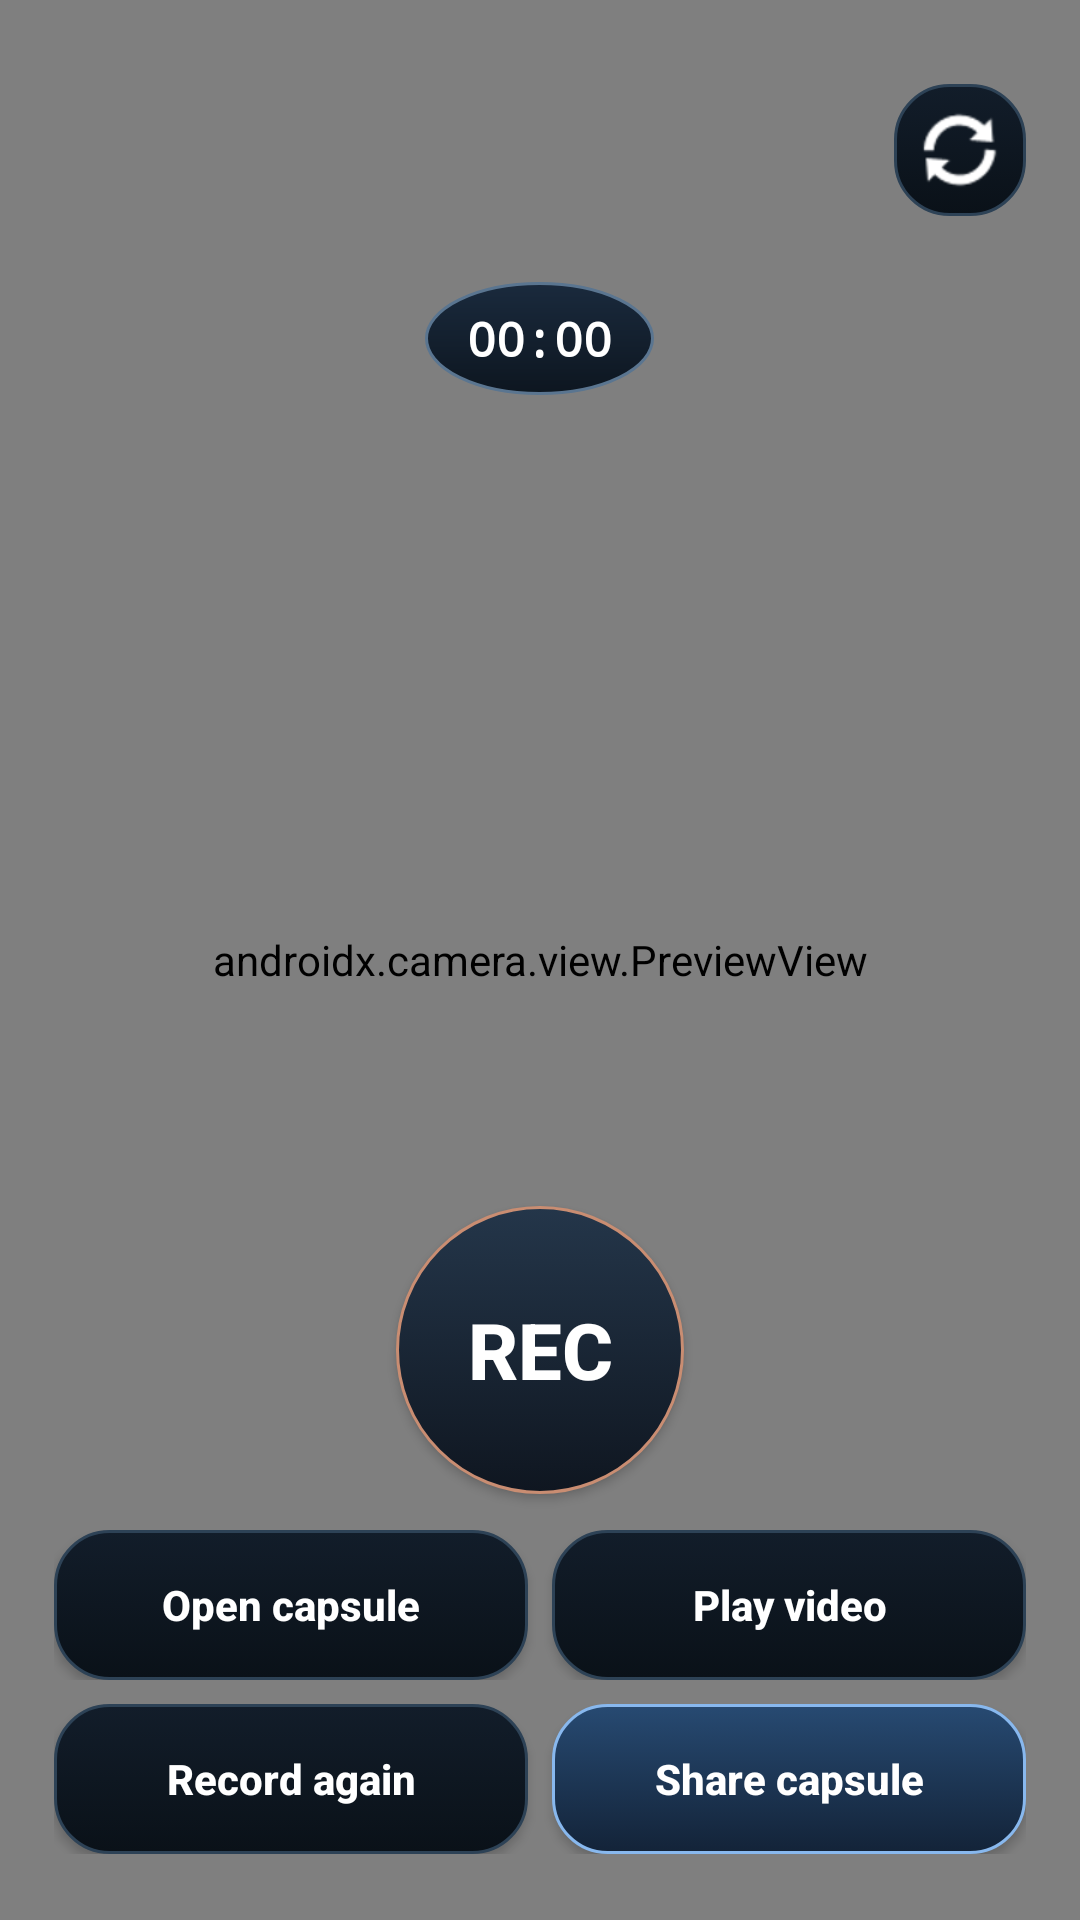

Where to tap for icons on this 1080x1920 app screen, as point (x, y):
Switch camera: point (960, 150)
